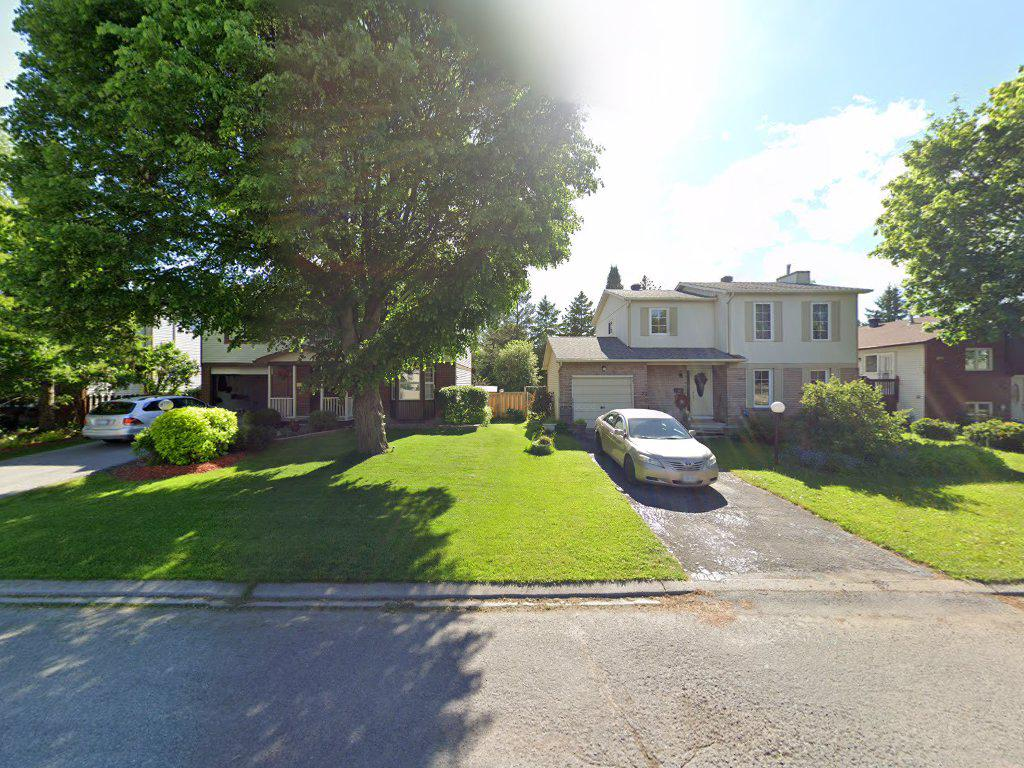trunk: (343, 322, 394, 473)
